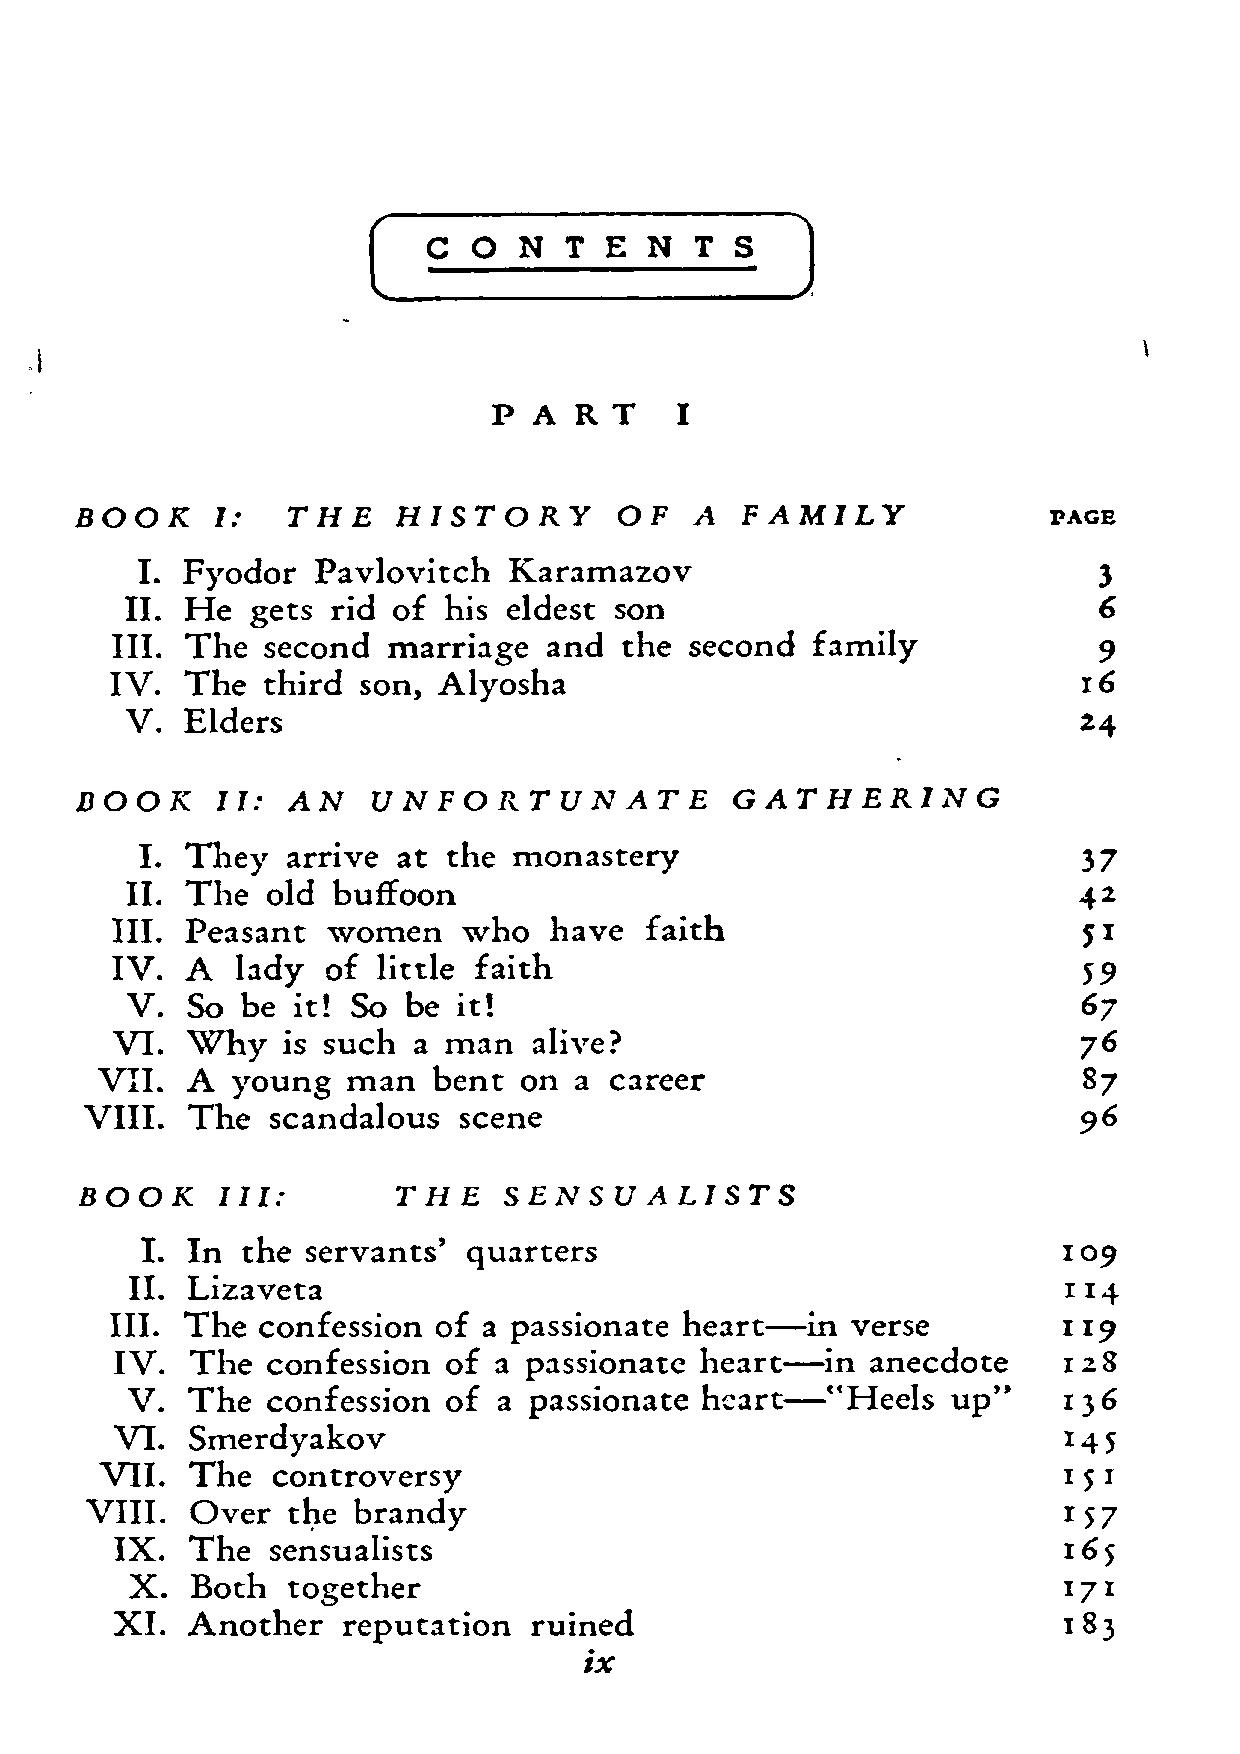TOC_chapter: (107, 1346, 1012, 1378), (105, 1306, 934, 1341), (126, 1384, 1017, 1413), (75, 1177, 798, 1213), (107, 632, 917, 662), (76, 788, 1002, 811), (136, 837, 679, 875), (109, 913, 733, 945), (94, 1064, 715, 1096), (132, 552, 690, 586), (111, 1606, 637, 1643), (123, 590, 670, 625), (72, 505, 905, 527), (106, 1027, 624, 1062), (140, 1232, 603, 1266), (79, 1100, 553, 1133), (107, 668, 573, 699), (83, 1494, 468, 1529), (106, 951, 562, 980), (98, 1460, 466, 1492), (126, 990, 501, 1019), (123, 878, 462, 909), (122, 1570, 423, 1604), (111, 1421, 386, 1456), (111, 1534, 436, 1563), (127, 1271, 325, 1304), (487, 399, 701, 429), (121, 705, 293, 738)
TOC_pagenumber: (1059, 1384, 1121, 1414), (1062, 1275, 1121, 1306), (1059, 1425, 1118, 1456), (1062, 1461, 1117, 1494), (1060, 1239, 1117, 1270), (1062, 1612, 1118, 1643), (1062, 1347, 1122, 1376), (1064, 1534, 1117, 1566), (1062, 1576, 1115, 1606), (1062, 1314, 1115, 1342), (1078, 1103, 1121, 1137), (1066, 1502, 1118, 1529), (1079, 1027, 1113, 1062), (1079, 1067, 1117, 1098), (1079, 709, 1118, 738), (1076, 884, 1117, 913), (1082, 919, 1117, 951), (1080, 992, 1117, 1023), (1082, 845, 1121, 874), (1082, 957, 1117, 986), (1082, 671, 1117, 698), (1092, 558, 1121, 588), (1096, 593, 1121, 621), (1096, 635, 1118, 662)
chapter: (424, 231, 756, 262)
